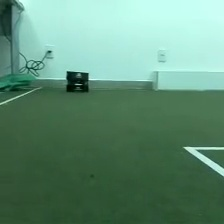goal: (150, 68, 224, 91)
robot: (64, 69, 90, 93)
